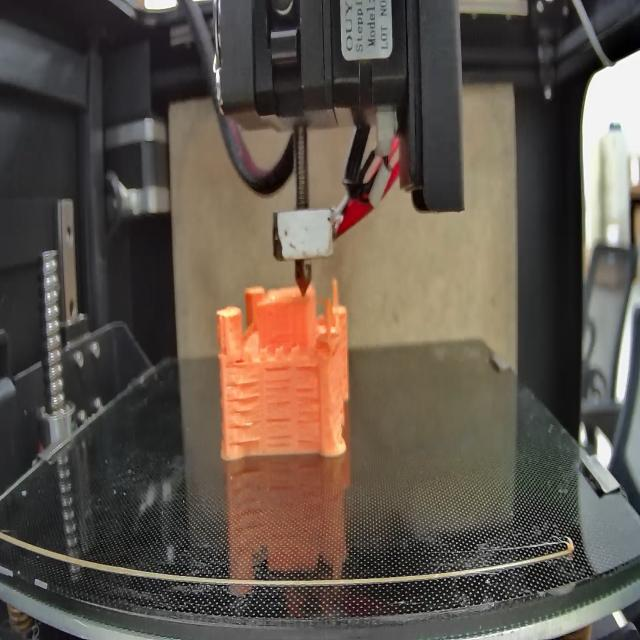cracks: (262, 362, 292, 445), (227, 380, 262, 445), (296, 388, 322, 446), (295, 360, 322, 374), (232, 349, 247, 366)
